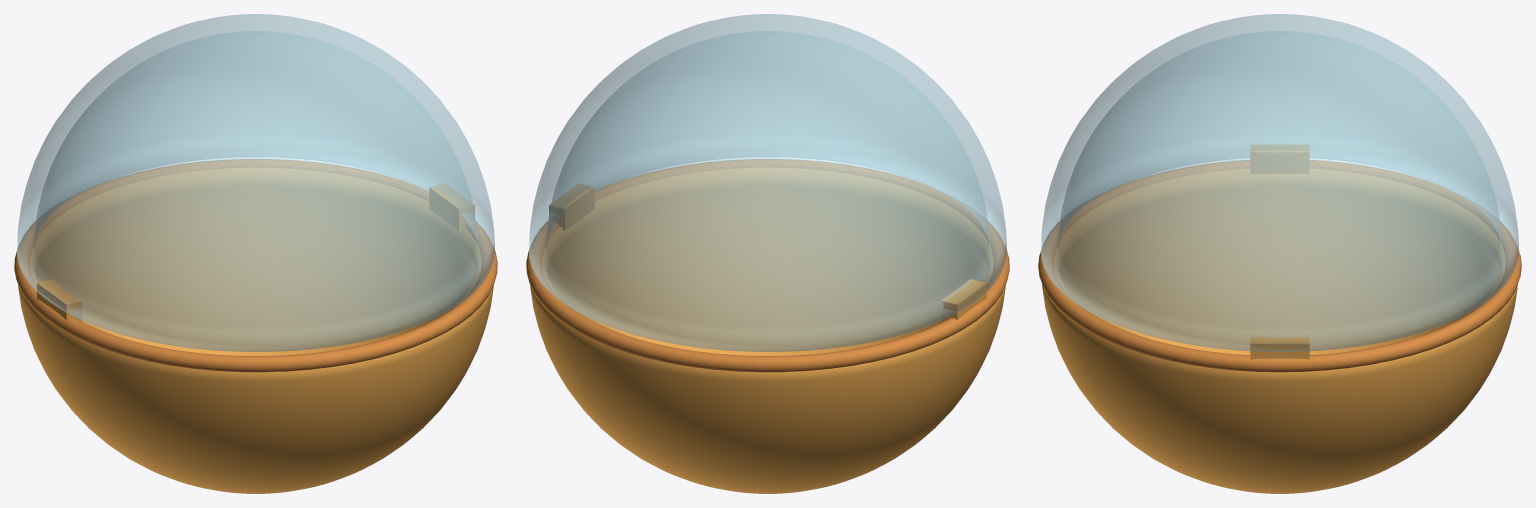
3 renders of one model, left to right at view 1: azimuth 30°, elevation 25°; view 2: azimuth 150°, elevation 25°; view 3: azimuth 270°, elevation 25°, orthographic.
Parts seen in each view (by area): view 1: ClearLid, CupShell, CupLip, _MeshInstance3D_2, Latch; view 2: ClearLid, CupShell, CupLip, _MeshInstance3D_2, Latch; view 3: ClearLid, CupShell, CupLip, Latch, _MeshInstance3D_2.
Boxes of the visible parts, x1,y1,x2,y2 form: ClearLid: [16, 14, 495, 351]; CupShell: [18, 168, 493, 493]; CupLip: [14, 159, 497, 372]; _MeshInstance3D_2: [429, 184, 474, 230]; Latch: [37, 279, 82, 321]; ClearLid: [528, 14, 1007, 351]; CupShell: [530, 168, 1005, 493]; CupLip: [526, 159, 1009, 372]; _MeshInstance3D_2: [549, 184, 594, 230]; Latch: [941, 279, 986, 321]; ClearLid: [1040, 14, 1519, 351]; CupShell: [1042, 169, 1517, 493]; CupLip: [1038, 160, 1521, 372]; Latch: [1250, 144, 1309, 173]; _MeshInstance3D_2: [1250, 336, 1309, 359].
Bounding box in the file's own units: 0.91 × 0.901 × 0.91.
